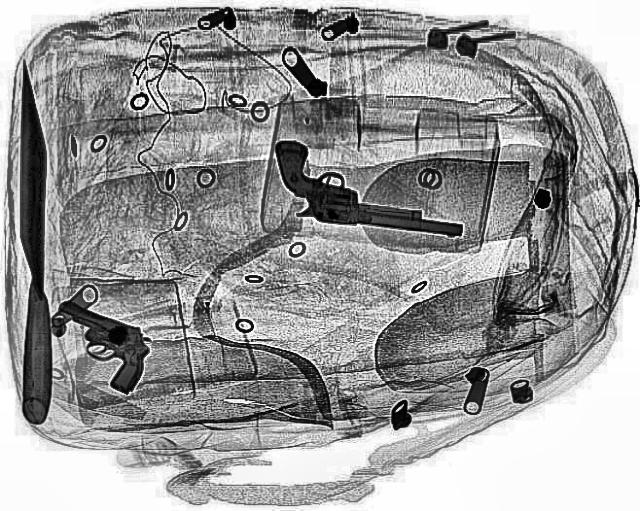Gun: (258, 137, 476, 239), (23, 298, 166, 396)
Knife: (19, 57, 49, 422)
